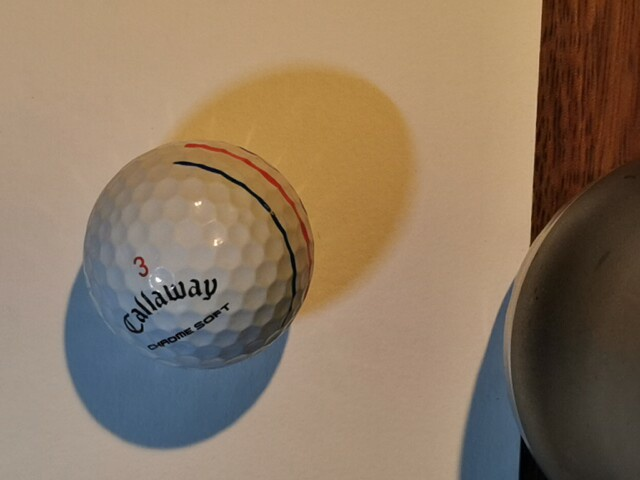Ball: (83, 139, 315, 370)
Callaway: (123, 278, 217, 334)
